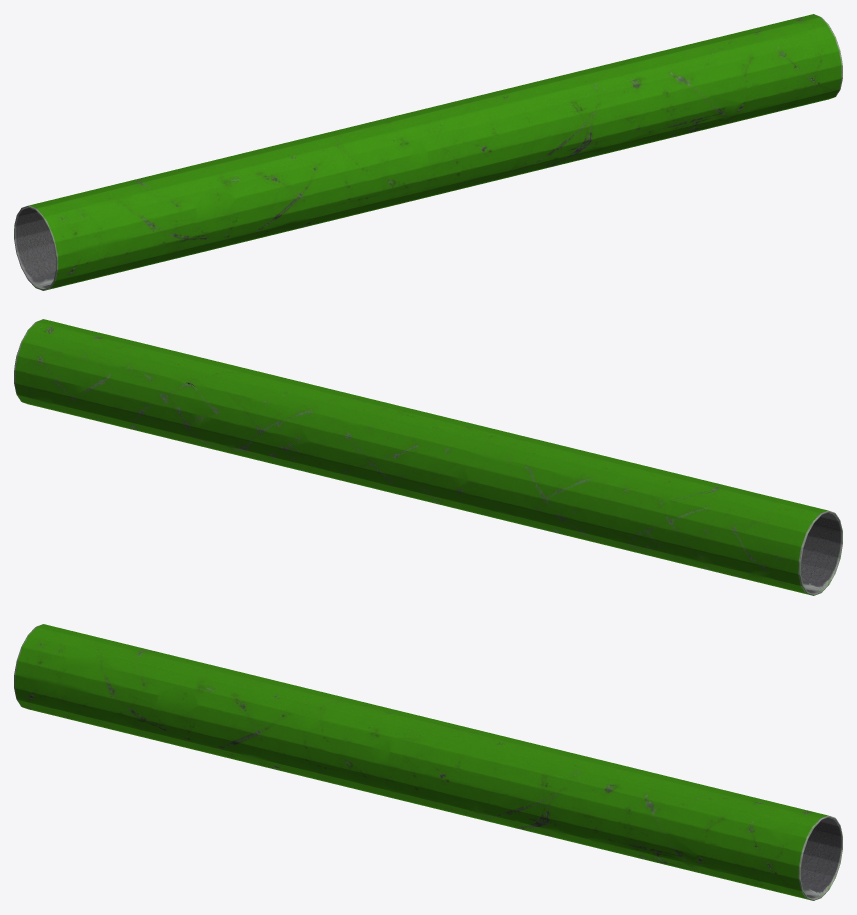
The model's file is Meshy_AI_long_toxic_green_pipe_1004101047_image-to-3d-texture.fbx.
The picture shows the model from 3 angles, top to bottom: view 1: azimuth 30°, elevation 25°; view 2: azimuth 150°, elevation 25°; view 3: azimuth 330°, elevation 25°; orthographic projection.
Visible parts, largest first — view 1: Mesh_0; view 2: Mesh_0; view 3: Mesh_0.
Boxes of the visible parts, bbox=[...] form: Mesh_0: bbox=[14, 14, 842, 290]; Mesh_0: bbox=[14, 319, 842, 595]; Mesh_0: bbox=[14, 624, 842, 900].
Bounding box in the file's own units: 190 × 18.35 × 17.99.
1 material, 1 textured.
